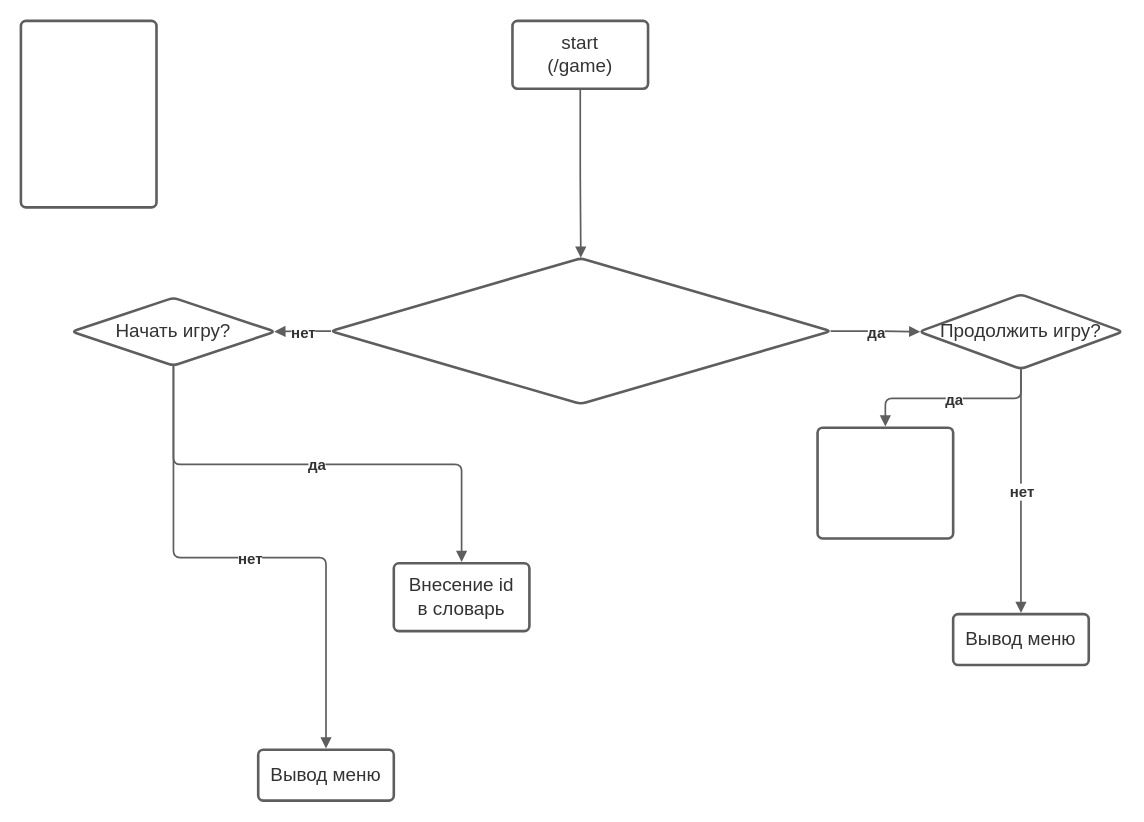
Image size: 1144x822. Some labels were removed from this diagram. Here are the shapes that lost their labels. From the top down, the box of each, then its label:
(19, 19, 157, 208): Меню бота: /правила /новая игра /запрос количества конфет
(329, 256, 832, 405): Существует игровая сессия данного id? (проверка по словарю/списку)
(816, 426, 954, 539): Ход игрока - обновление словаря и т.д.
